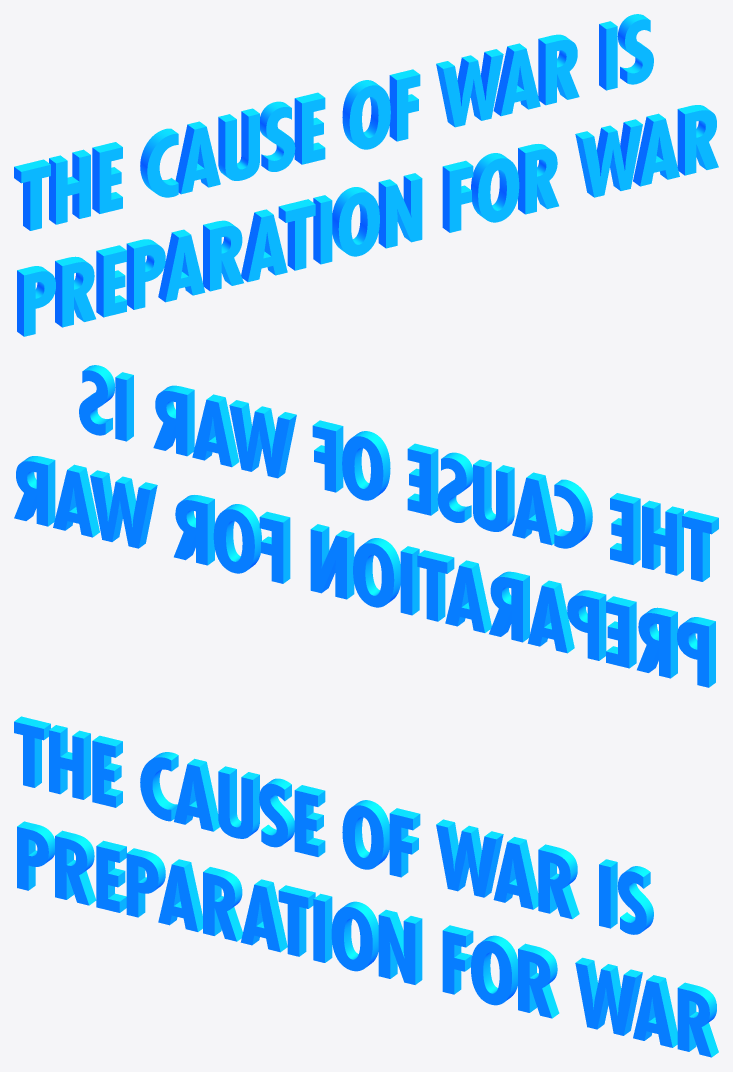
Rendered from cause.glb.
3 renders of one model, top to bottom at view 1: azimuth 30°, elevation 25°; view 2: azimuth 150°, elevation 25°; view 3: azimuth 330°, elevation 25°, orthographic.
Parts seen in each view (by area): view 1: typeMesh1; view 2: typeMesh1; view 3: typeMesh1.
Part boxes in pixels (left/top/right/bottom): typeMesh1: left=14, top=14, right=718, bottom=336; typeMesh1: left=14, top=365, right=718, bottom=687; typeMesh1: left=14, top=716, right=718, bottom=1057.
Bounding box in the file's own units: 21 × 4.82 × 0.3746.
